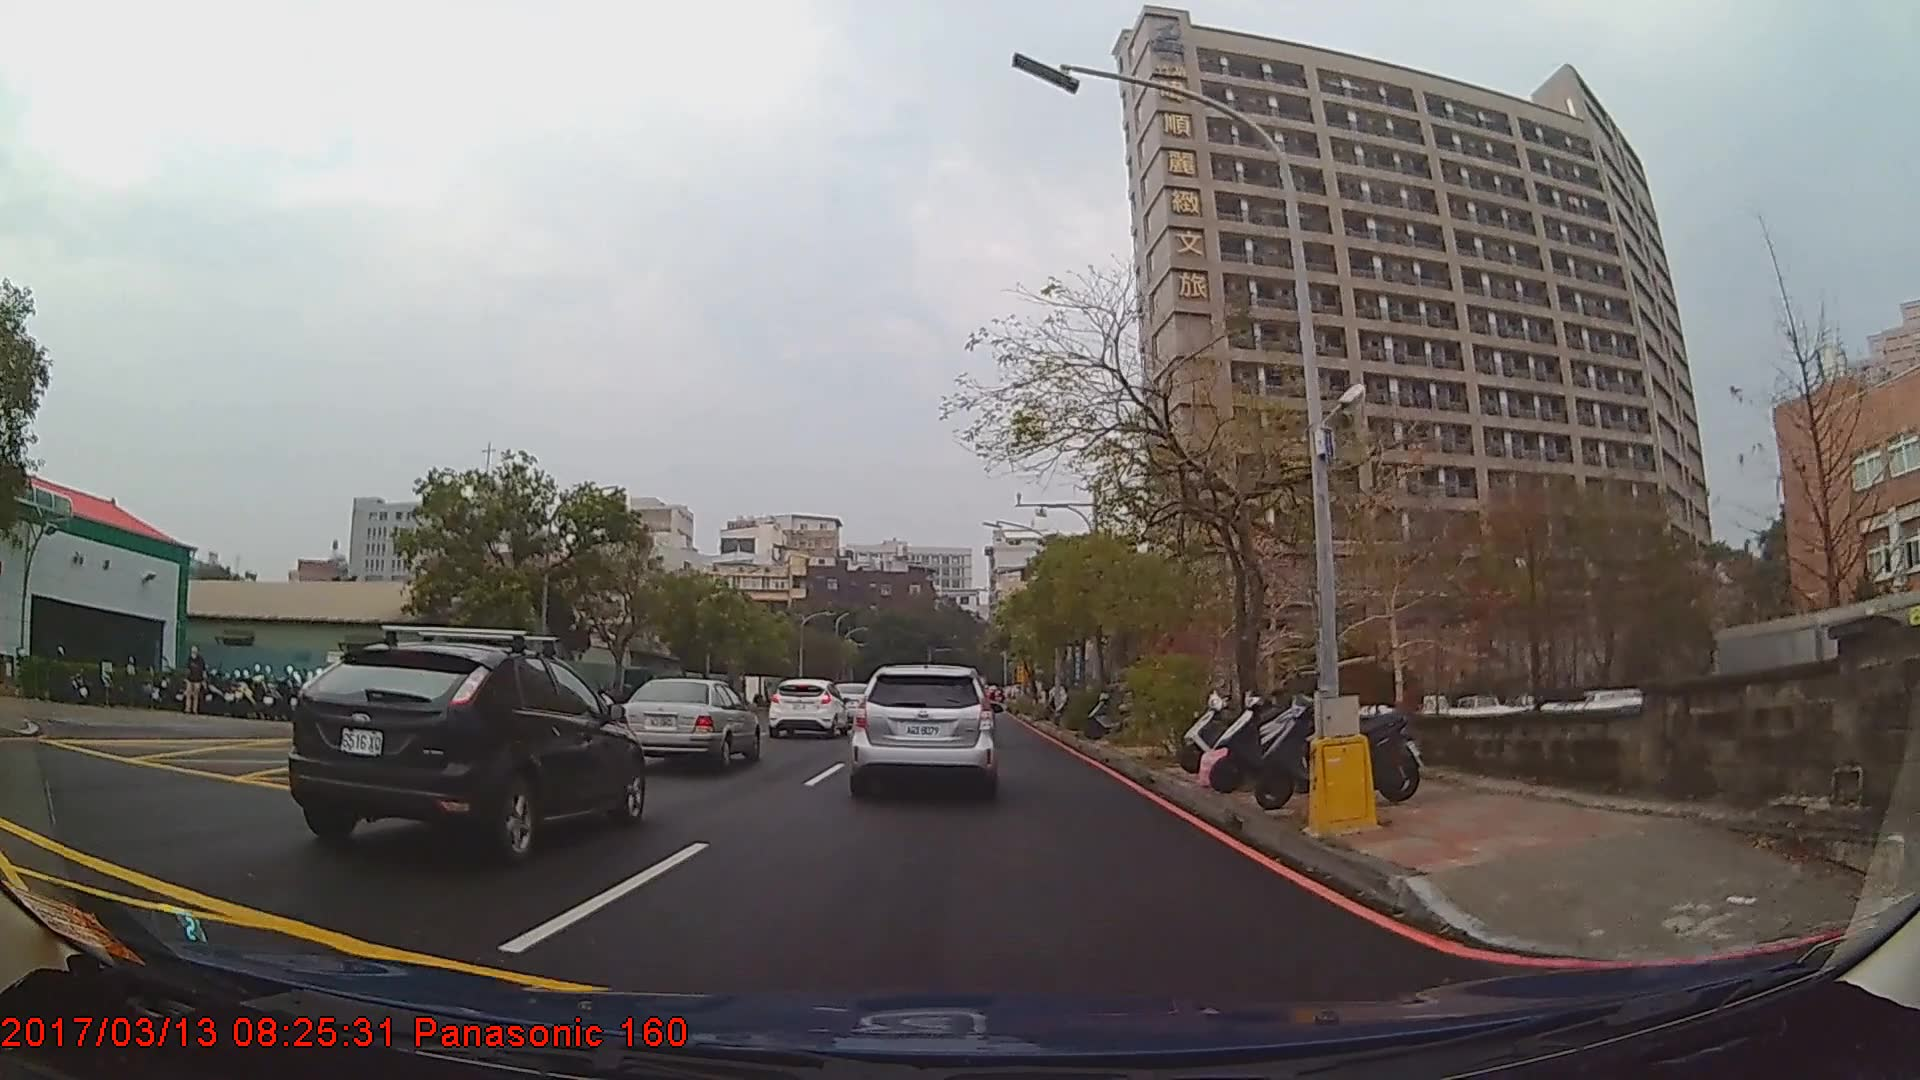pedestrian: (184, 646, 208, 716)
vehicle: (287, 638, 643, 856), (849, 661, 993, 795), (615, 675, 761, 772), (766, 676, 848, 737)
